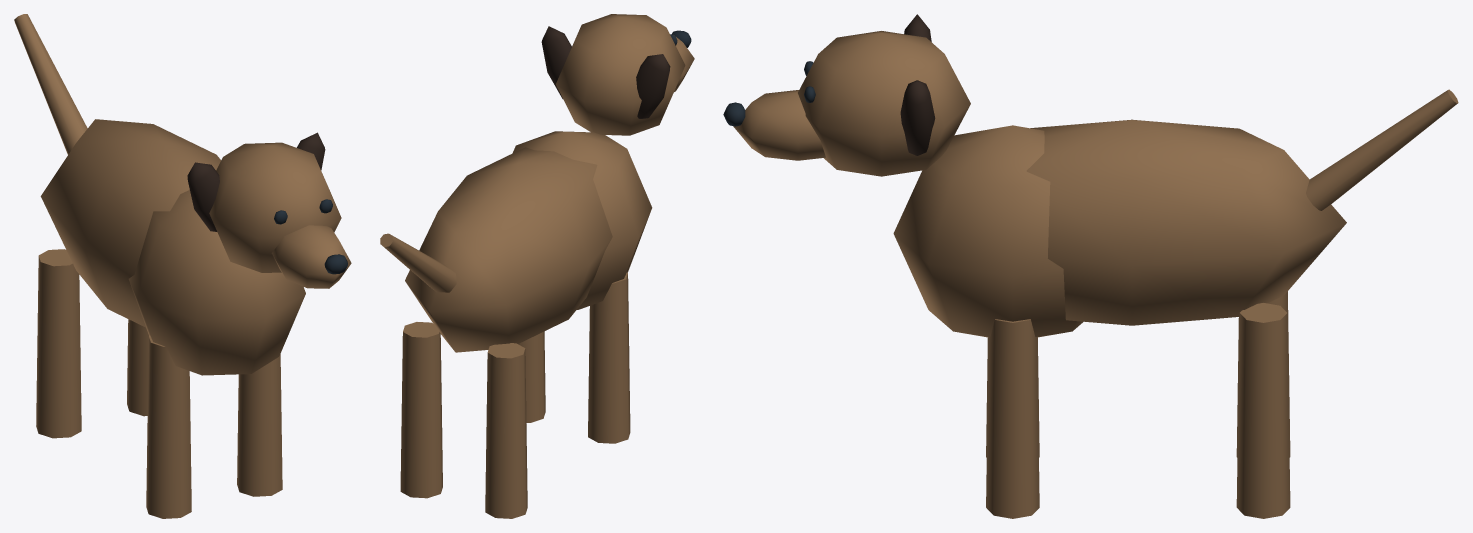
File: dog-lod1.glb
3 renders of one model, left to right at view 1: azimuth 30°, elevation 25°; view 2: azimuth 150°, elevation 25°; view 3: azimuth 270°, elevation 25°, orthographic. The views are drawn at different scales.
Visible parts, largest first — view 1: leg (×4), chest, body, head, snout, tail, ear (×2); view 2: body, leg (×4), head, chest, ear (×2), tail, snout; view 3: body, chest, leg (×2), head, tail, snout, ear.
Boxes of the visible parts, bbox=[...] form: leg (×4): bbox=[36, 249, 282, 518]; chest: bbox=[128, 190, 305, 375]; body: bbox=[40, 119, 220, 327]; head: bbox=[209, 142, 341, 272]; snout: bbox=[271, 225, 351, 288]; tail: bbox=[14, 14, 87, 154]; ear (×2): bbox=[187, 132, 325, 231]; body: bbox=[405, 147, 612, 352]; leg (×4): bbox=[400, 272, 630, 518]; head: bbox=[556, 14, 685, 135]; chest: bbox=[512, 131, 652, 309]; ear (×2): bbox=[541, 26, 670, 118]; tail: bbox=[380, 233, 456, 292]; snout: bbox=[674, 35, 694, 91]; body: bbox=[1026, 119, 1346, 325]; chest: bbox=[893, 125, 1083, 337]; leg (×2): bbox=[986, 303, 1290, 518]; head: bbox=[798, 31, 970, 176]; tail: bbox=[1306, 89, 1458, 210]; snout: bbox=[733, 90, 825, 160]; ear: bbox=[900, 80, 935, 155].
Size of the model in its own units: 0.34 by 0.83 by 1.23.
